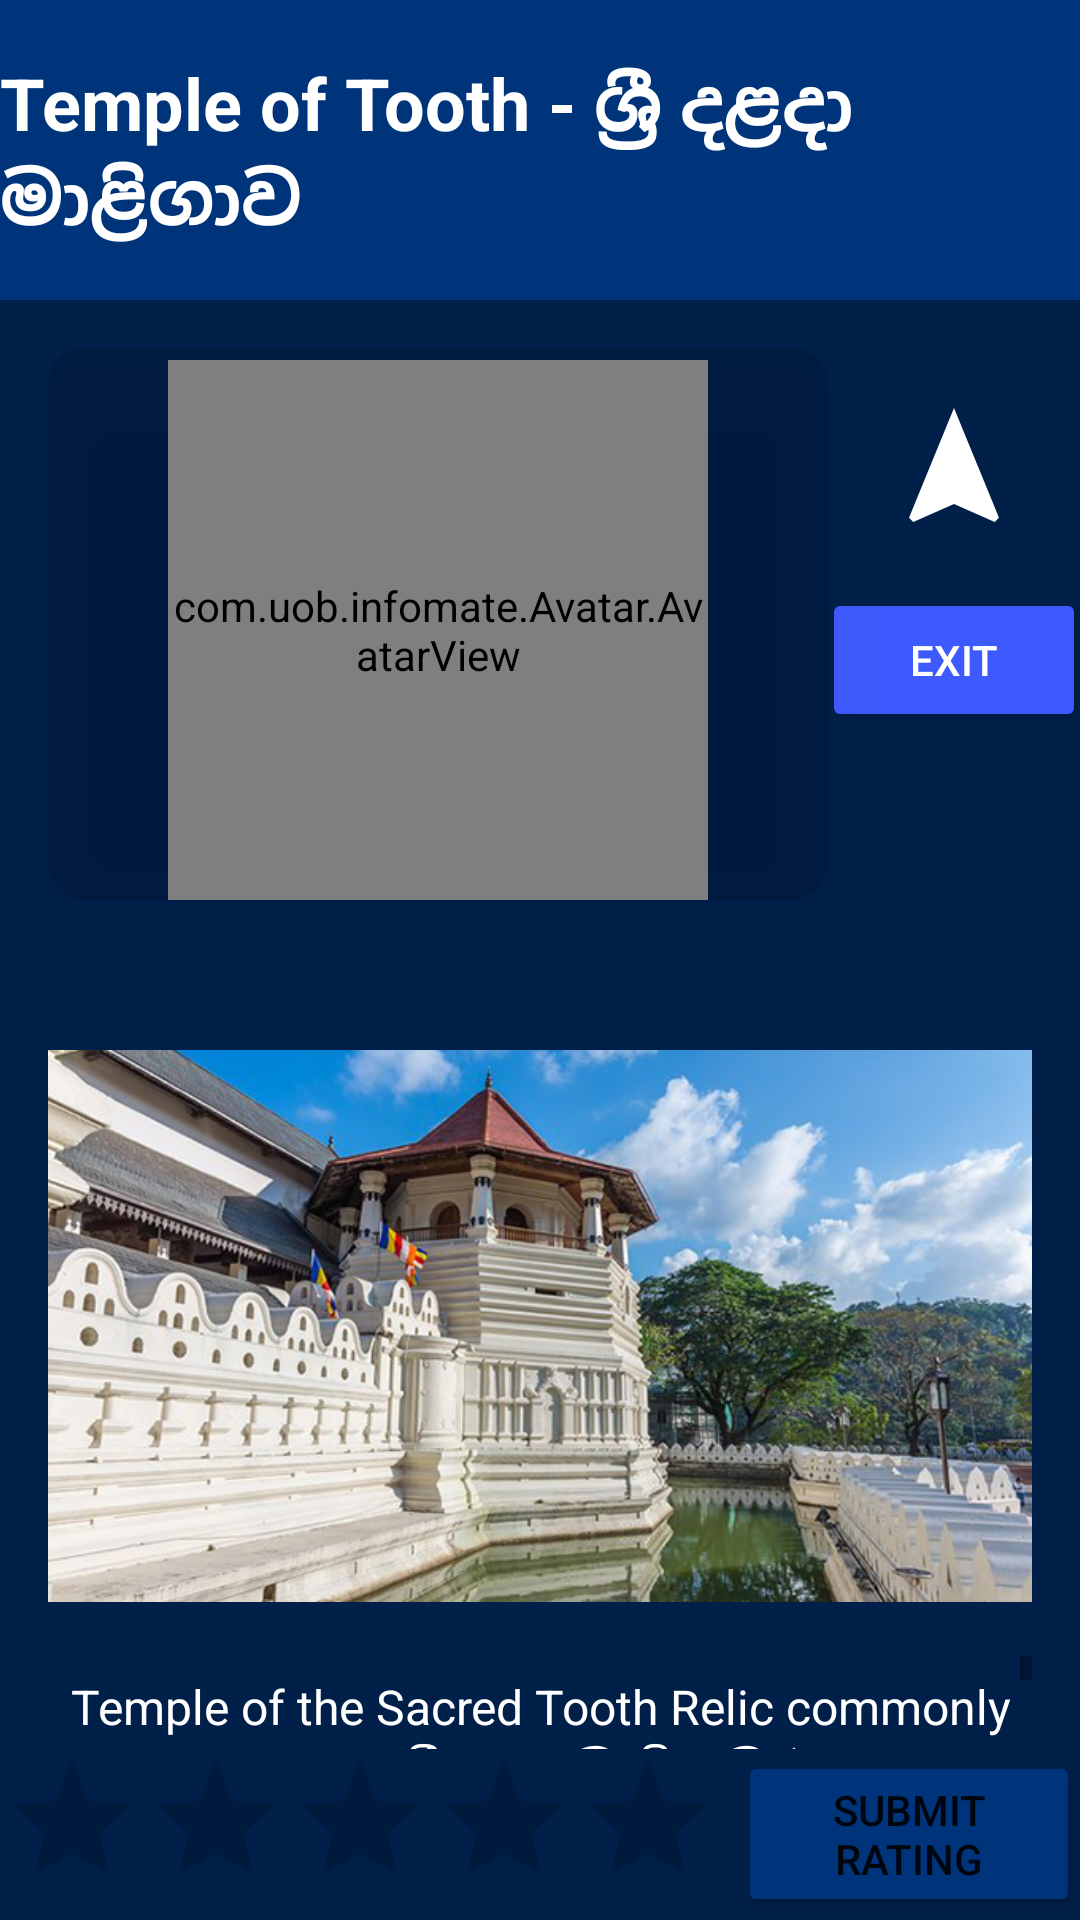

Locate icon controls on the screen. Image size 1080 × 1920, boxes as [x1=x1, y1=y1, x2=x2, y2=y2].
navigation: [x1=909, y1=408, x2=999, y2=522]
